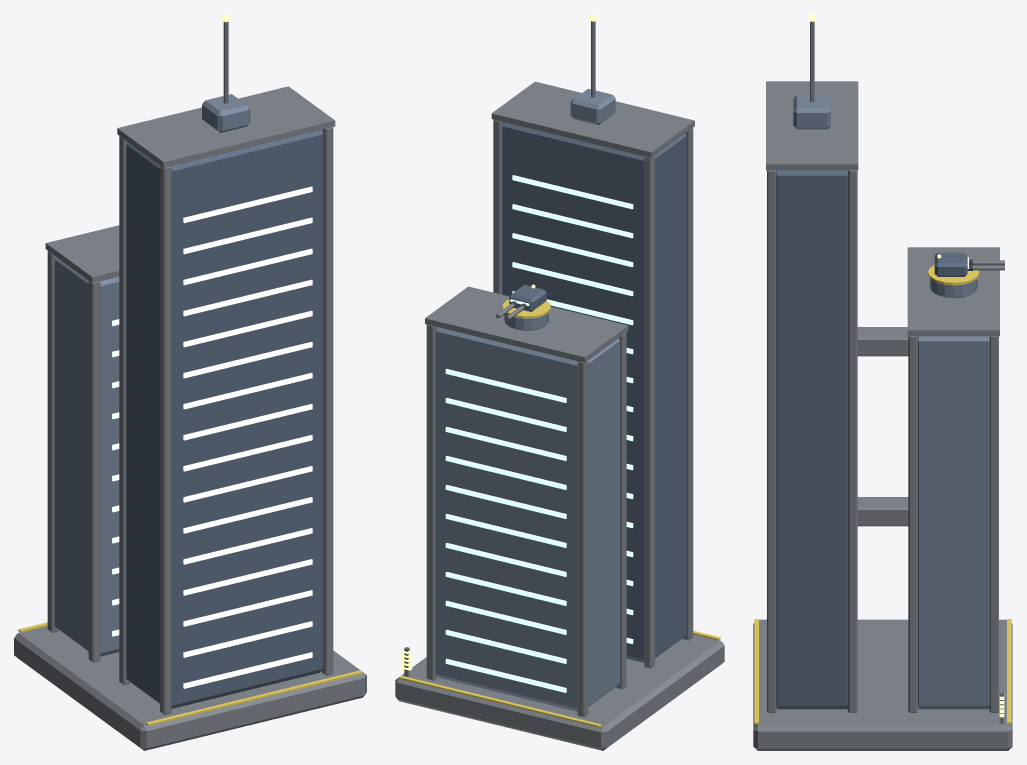
Rendered from zone_high_5_t5.glb.
3 renders of one model, left to right at view 1: azimuth 30°, elevation 25°; view 2: azimuth 150°, elevation 25°; view 3: azimuth 270°, elevation 25°, orthographic. The views are drawn at different scales.
Visible parts, largest first — view 1: zone_high_5_t5, detail; view 2: zone_high_5_t5, detail; view 3: zone_high_5_t5, detail.
Boxes of the visible parts, left/top/right/bottom form: zone_high_5_t5: left=14, top=86, right=366, bottom=750; detail: left=18, top=14, right=362, bottom=725; zone_high_5_t5: left=395, top=81, right=724, bottom=750; detail: left=399, top=14, right=720, bottom=727; zone_high_5_t5: left=753, top=81, right=1012, bottom=750; detail: left=754, top=14, right=1011, bottom=724.
Bounding box in the file's own units: 27.5 × 79.86 × 27.5.
